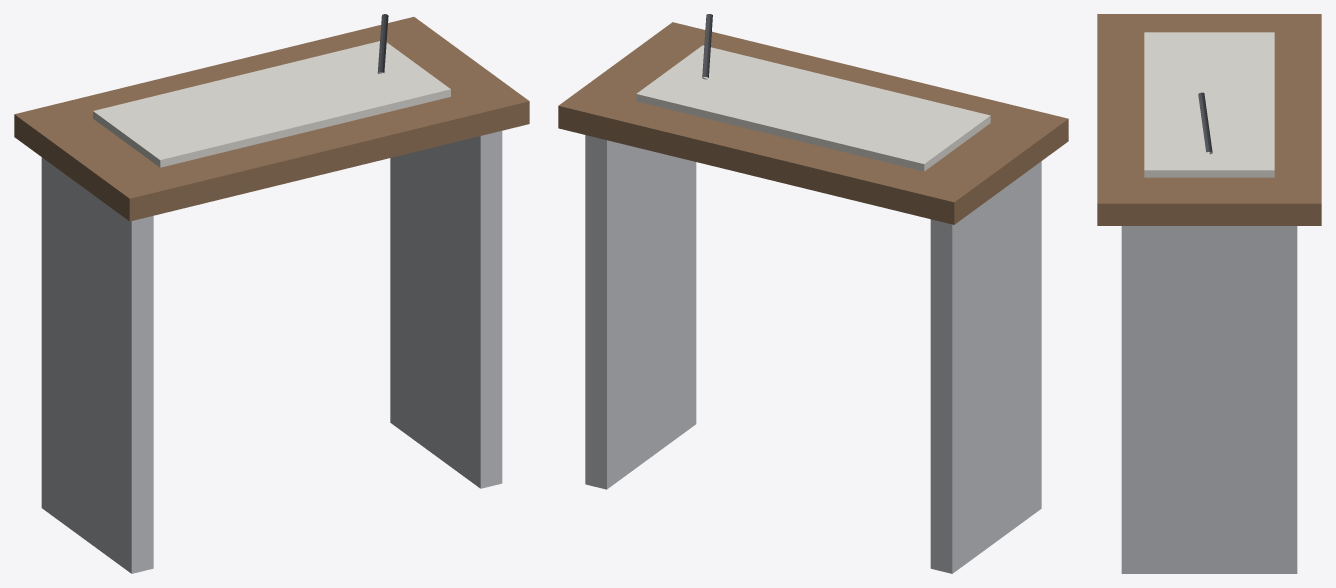
Rendered from bank-vault-heist-kit-writing-desk-b3aeaa15__25088.glb.
3 renders of one model, left to right at view 1: azimuth 30°, elevation 25°; view 2: azimuth 150°, elevation 25°; view 3: azimuth 270°, elevation 25°, orthographic. The views are drawn at different scales.
Parts seen in each view (by area): view 1: writing-desk; view 2: writing-desk; view 3: writing-desk.
Boxes of the visible parts, x1,y1,x2,y2 form: writing-desk: [14, 14, 529, 573]; writing-desk: [558, 14, 1068, 573]; writing-desk: [1097, 14, 1321, 573].
Bounding box in the file's own units: 1.1 × 1.2 × 0.5501.
